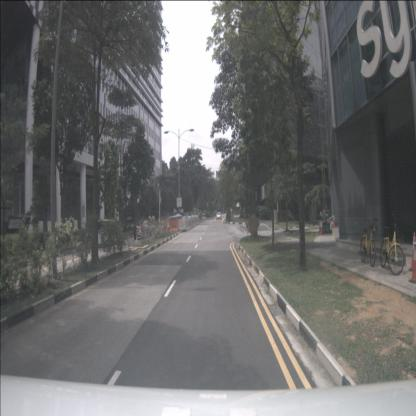movable_object-barrier: (169, 220, 179, 232), (183, 219, 191, 231), (178, 219, 186, 230), (164, 221, 170, 232), (192, 219, 196, 228), (195, 217, 199, 225)
movable_object-trafficcone: (408, 238, 416, 284), (408, 232, 416, 273), (320, 222, 323, 234), (333, 215, 335, 227)
vehicle-bicycle: (380, 213, 405, 276), (360, 218, 378, 267)
vehicle-car: (216, 212, 222, 219)
